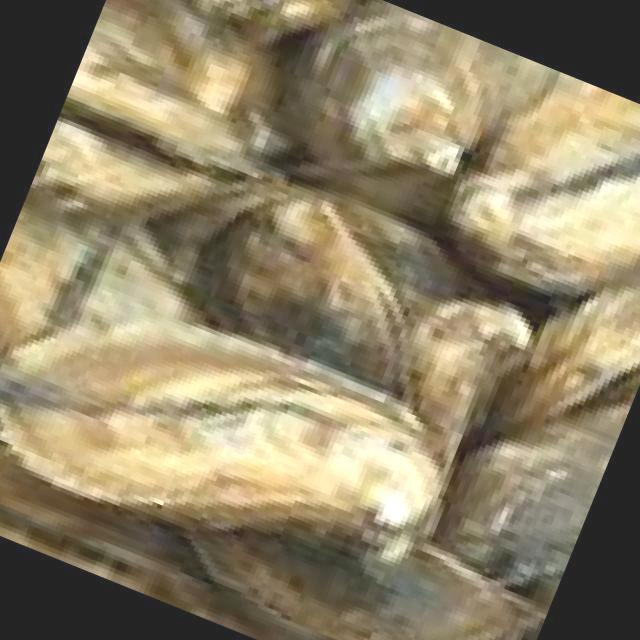Oyster-Closed: (0, 306, 450, 564), (185, 511, 548, 639), (182, 188, 401, 382), (61, 0, 269, 178), (304, 15, 477, 177), (382, 299, 532, 473), (539, 391, 639, 639), (25, 119, 241, 214)
Oyster-Open: (441, 72, 640, 291), (496, 288, 639, 439)
